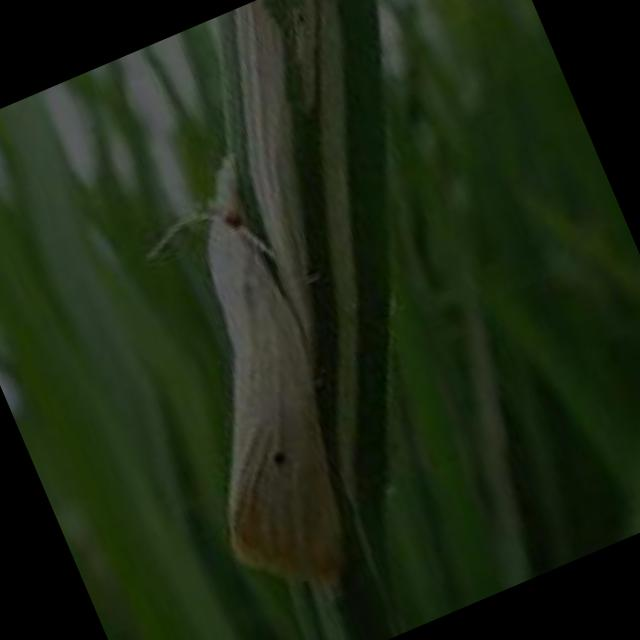stem-borer: (82, 138, 421, 627)
